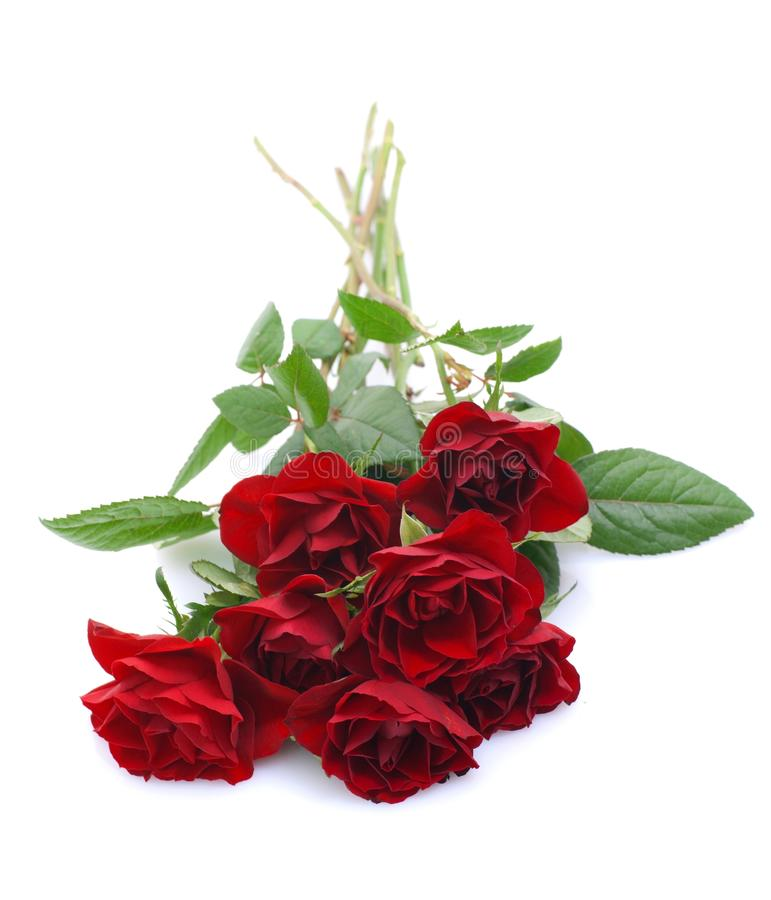RedRose: (38, 629, 285, 845), (327, 531, 525, 671), (209, 450, 410, 583), (405, 406, 569, 557), (176, 555, 320, 701), (342, 649, 466, 806), (506, 620, 593, 721)
